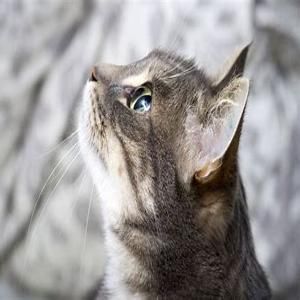cat: (82, 55, 239, 180)
